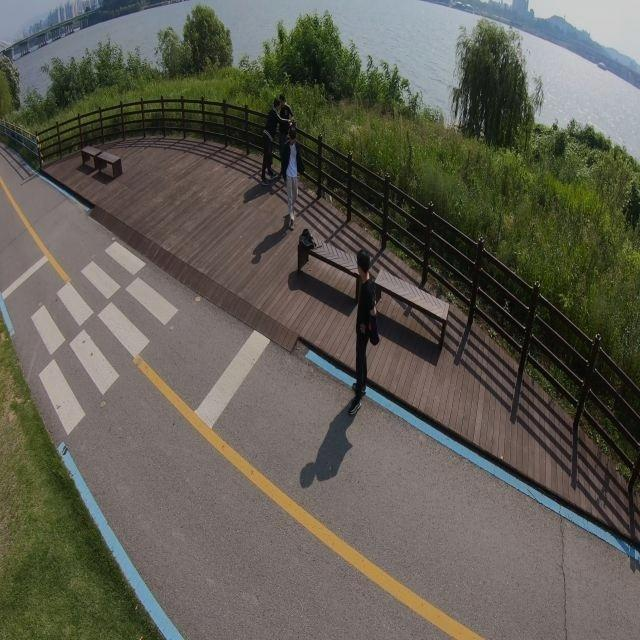fight: (258, 95, 294, 183)
non-fight: (348, 249, 381, 408), (275, 113, 300, 228)
